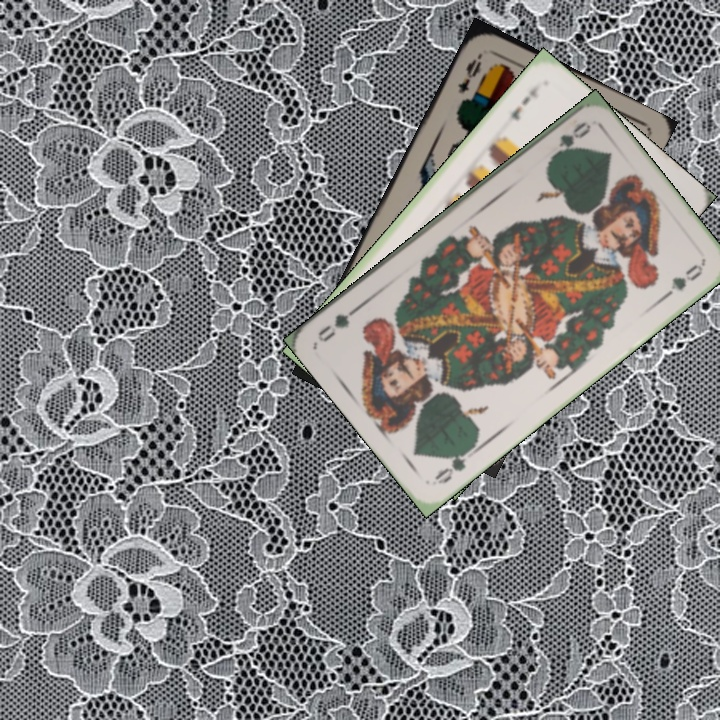E7: (506, 81, 544, 123)
EO: (453, 48, 485, 97)
GO: (545, 117, 593, 165), (430, 443, 480, 487)
